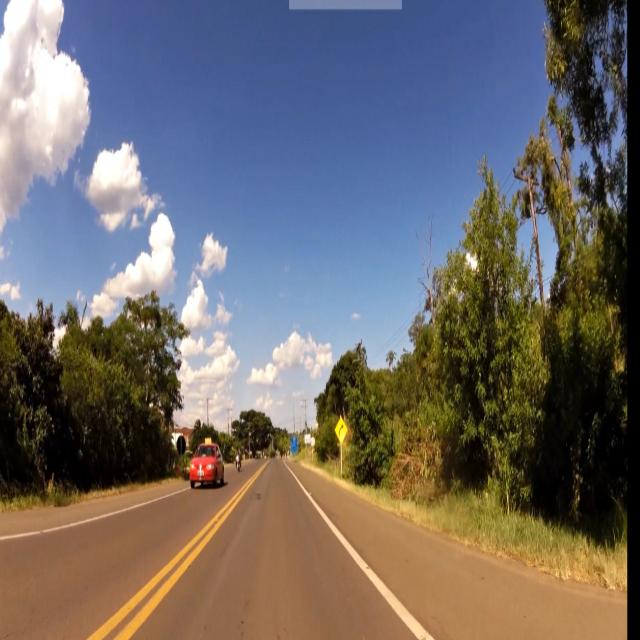A-2b: (336, 414, 347, 444)
